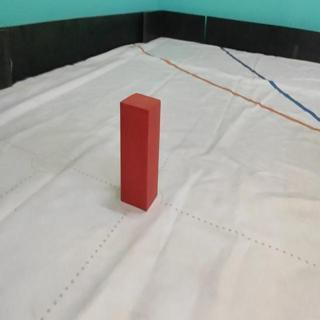redbox: (119, 91, 160, 211)
